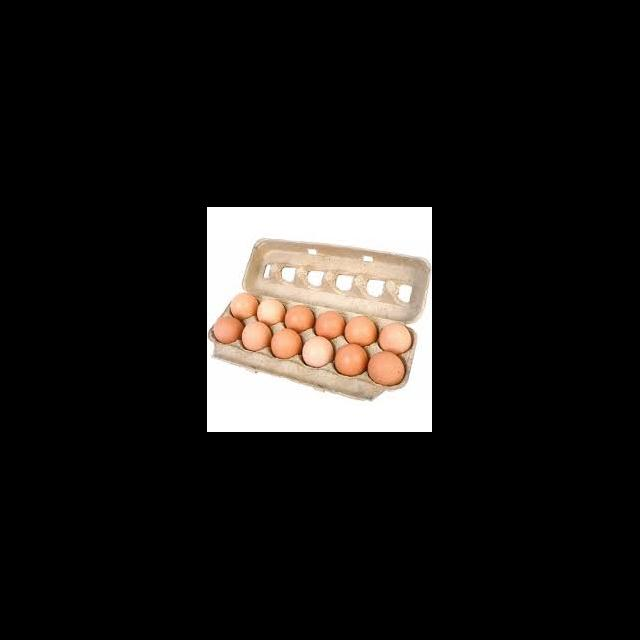food_waste: (366, 348, 404, 388), (330, 342, 370, 378), (376, 318, 414, 354), (342, 314, 381, 346), (298, 334, 332, 368), (310, 308, 348, 338), (270, 326, 304, 359), (240, 320, 272, 354), (210, 314, 246, 344), (280, 304, 316, 330), (228, 290, 258, 320), (252, 296, 284, 324)
paper: (236, 232, 429, 324)
